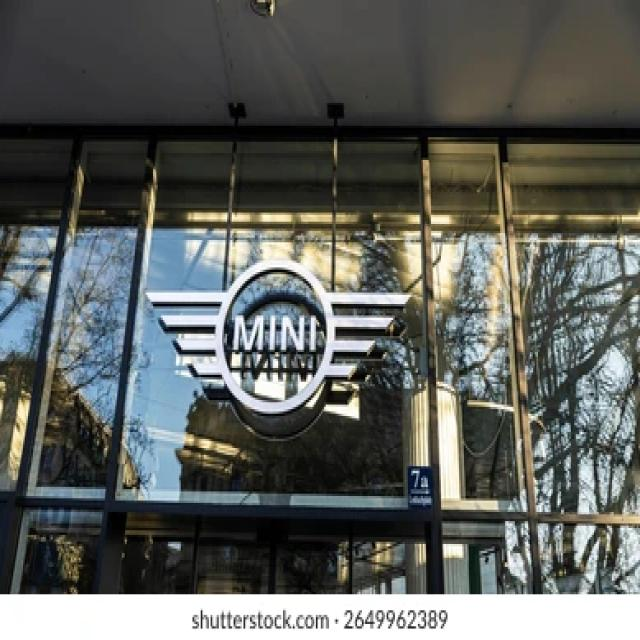mini: (146, 259, 418, 417)
